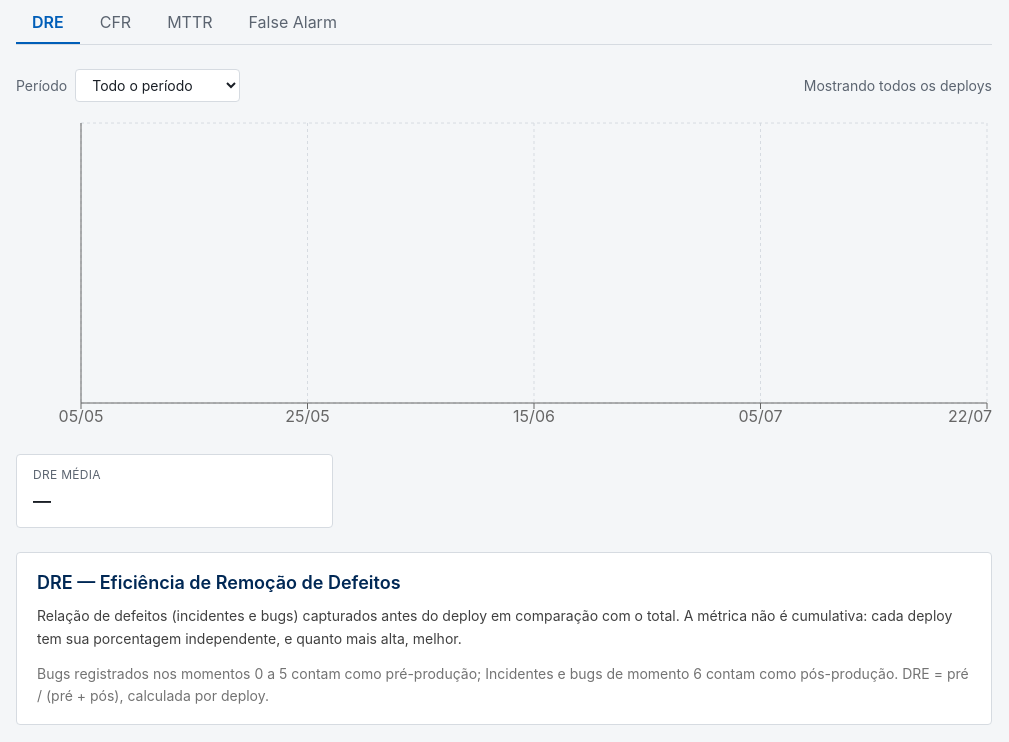
Dashboard period selector › reduces the visible deploy count to 3 when Últimos 3 deploys is chosen
This screenshot has width=1009, height=742.
Select "Últimos 3 deploys" in the dropdown labelled "Período" at (158, 86), box left=75, top=69, right=240, bottom=102
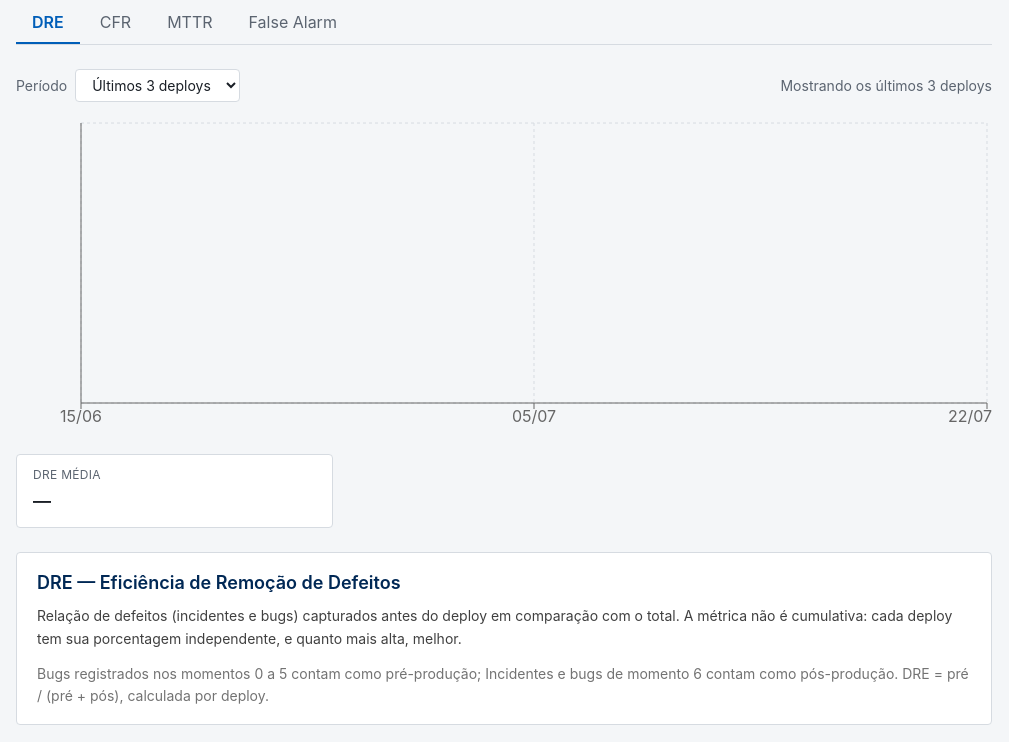
Check: the text "Mostrando os últimos 3 deploys" is shown, box left=780, top=76, right=992, bottom=96
